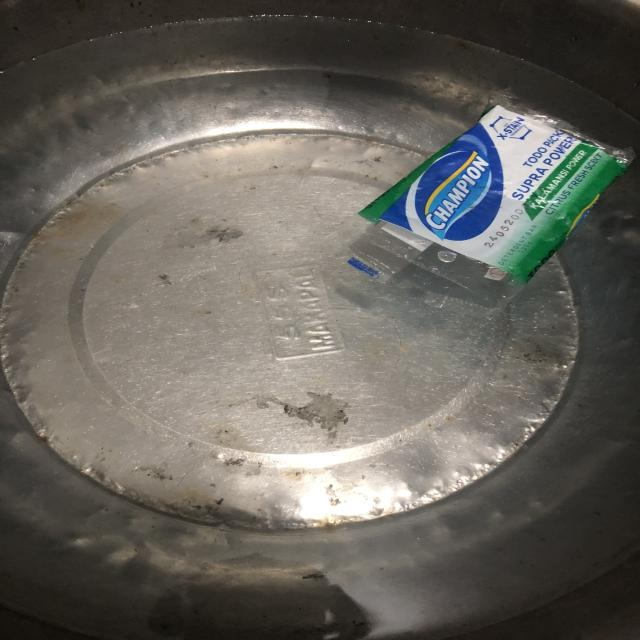Plastic Wrapper: (335, 103, 634, 307)
